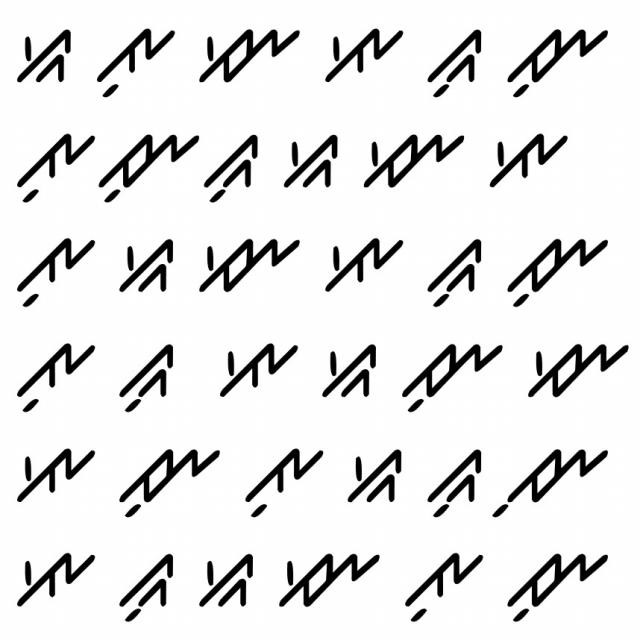e: (213, 328, 302, 404), (9, 541, 99, 613), (313, 227, 407, 294), (482, 128, 573, 192), (313, 22, 404, 85), (8, 442, 101, 502)
ngge: (315, 330, 380, 408), (112, 228, 176, 304), (9, 22, 75, 92), (340, 446, 410, 510), (194, 548, 258, 613), (282, 130, 344, 196)
nggu: (413, 230, 488, 308), (415, 29, 491, 104), (111, 337, 181, 417), (422, 446, 487, 520), (114, 552, 178, 627), (205, 133, 265, 201)
nje: (189, 17, 303, 92), (273, 544, 386, 619), (188, 225, 302, 298), (356, 125, 470, 193), (516, 335, 633, 401)
nju: (501, 540, 615, 626), (491, 444, 611, 520), (501, 20, 611, 102), (397, 337, 509, 417), (501, 231, 614, 309), (115, 440, 225, 520), (99, 130, 202, 207)
u: (5, 339, 100, 418), (10, 124, 96, 209), (234, 444, 327, 521), (398, 546, 487, 624), (89, 22, 176, 100), (16, 234, 98, 314)
